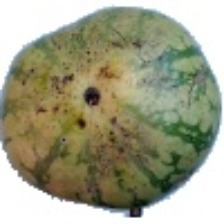watermelon: (39, 31, 205, 192)
